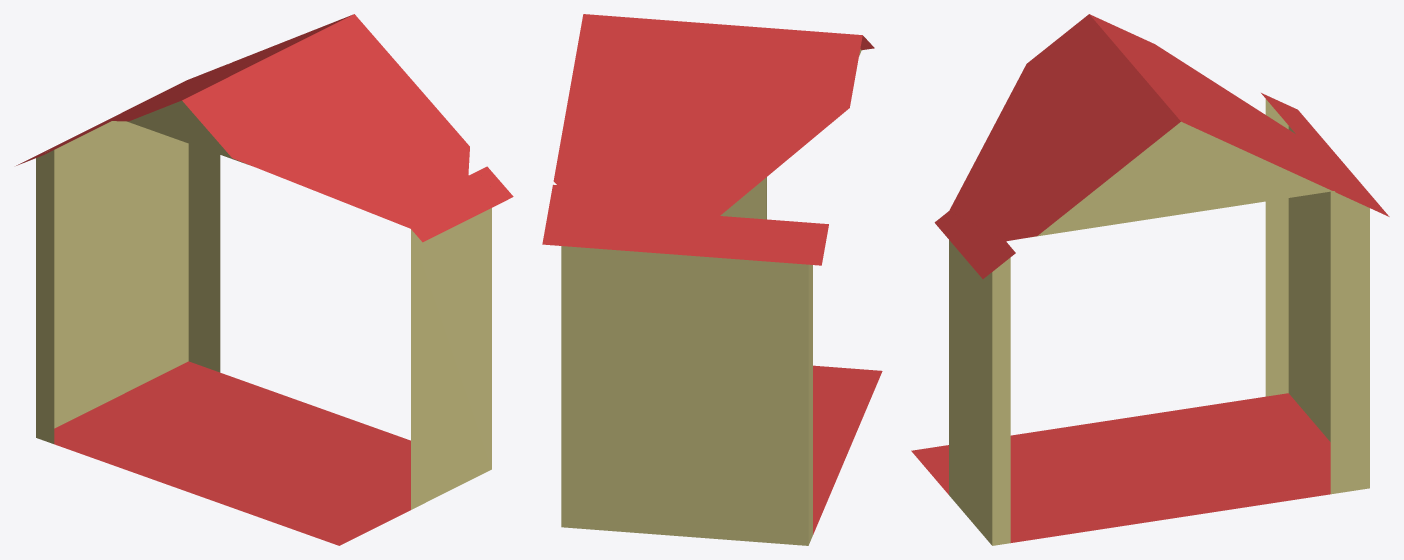
3 renders of one model, left to right at view 1: azimuth 30°, elevation 25°; view 2: azimuth 150°, elevation 25°; view 3: azimuth 270°, elevation 25°, orthographic. The views are drawn at different scales.
Bounding box in the file's own units: 12.85 × 15.33 × 14.21.
